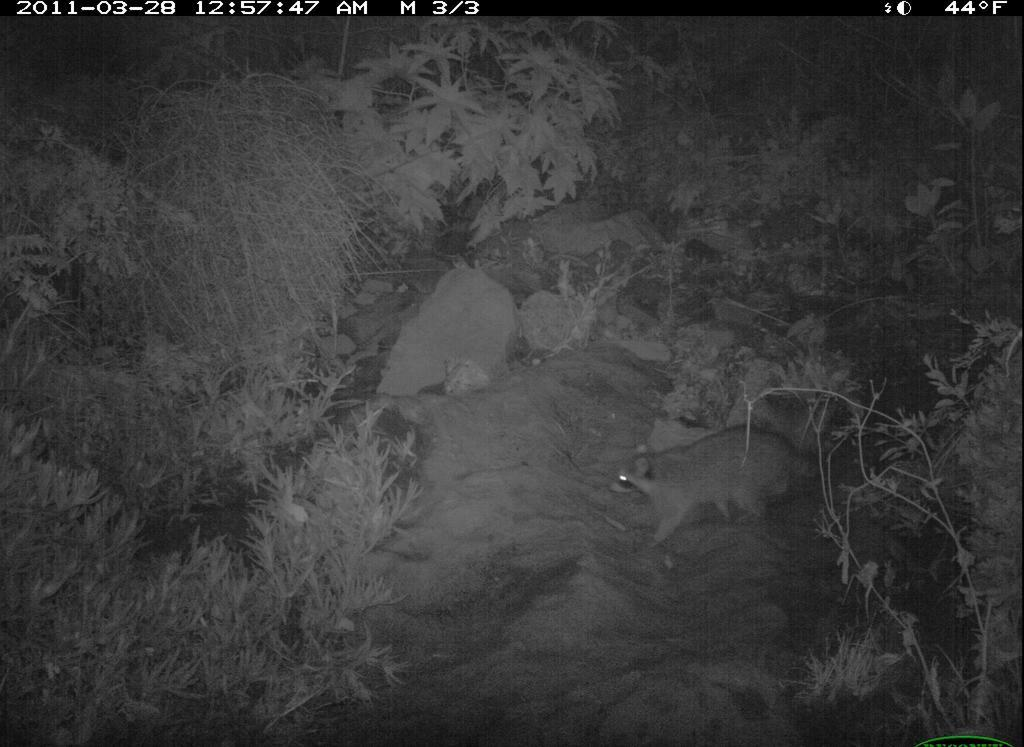raccoon: (603, 424, 838, 557)
